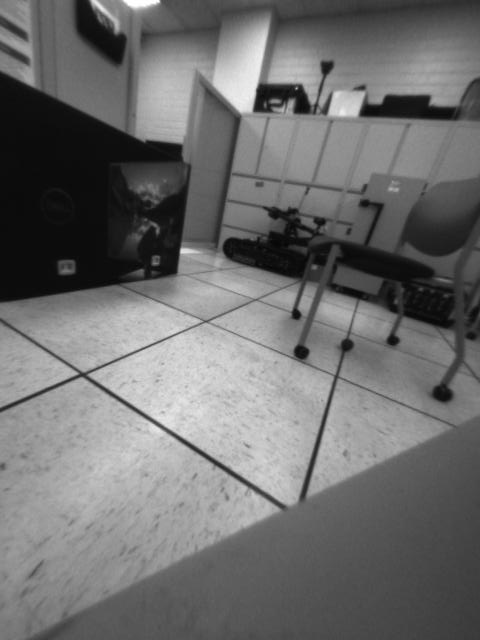dogtoy: (335, 330, 358, 354)
